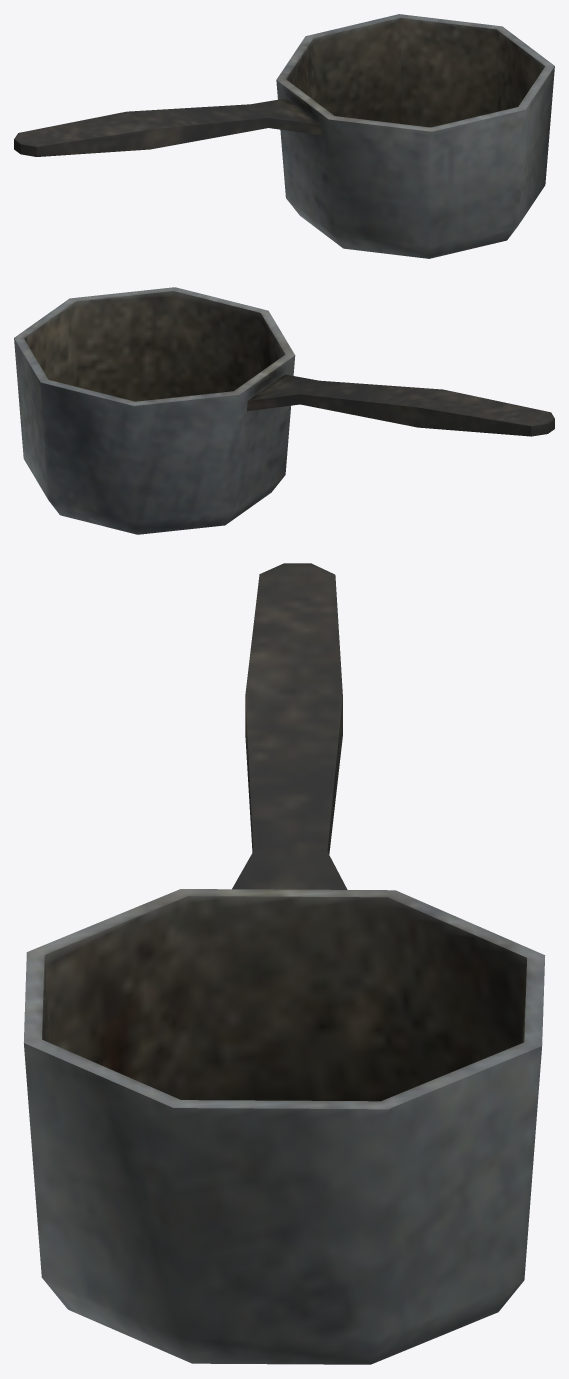
File: MilkPan.FBX
3 renders of one model, top to bottom at view 1: azimuth 30°, elevation 25°; view 2: azimuth 150°, elevation 25°; view 3: azimuth 270°, elevation 25°, orthographic. The views are drawn at different scales.
Parts seen in each view (by area): view 1: MilkPan; view 2: MilkPan; view 3: MilkPan.
Part boxes in pixels (left/top/right/bottom): MilkPan: left=14, top=14, right=554, bottom=258; MilkPan: left=14, top=287, right=554, bottom=534; MilkPan: left=23, top=563, right=545, bottom=1364.
Bounding box in the file's own units: 47.06 × 14.48 × 20.92.
